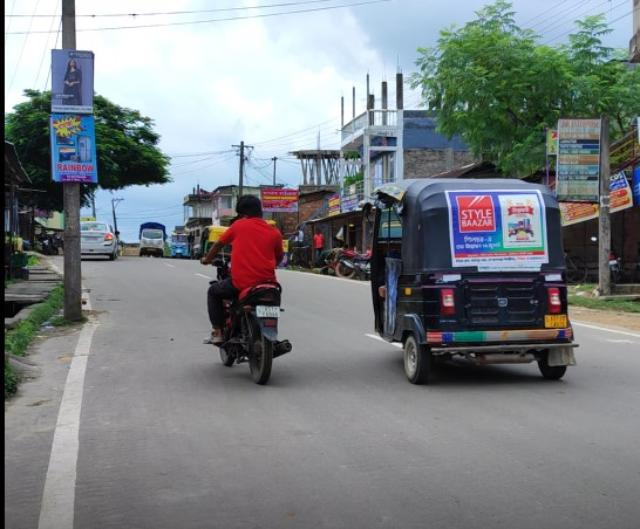licensePlate: (258, 305, 283, 319)
motorcycle: (204, 190, 296, 386)
withoutHelmet: (234, 195, 265, 221)
